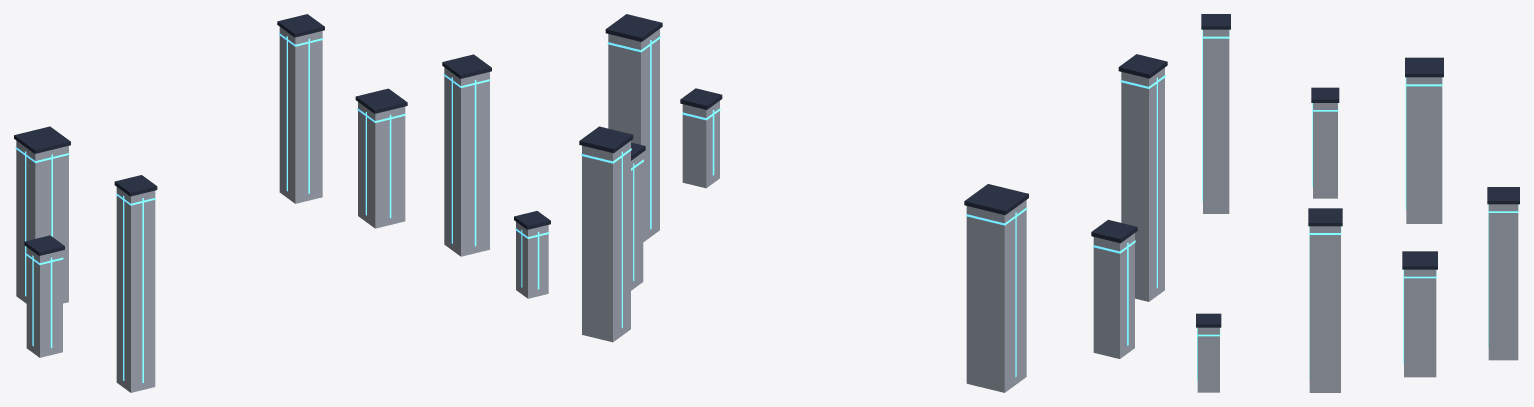
The picture shows the model from 3 angles, left to right: view 1: azimuth 30°, elevation 25°; view 2: azimuth 150°, elevation 25°; view 3: azimuth 270°, elevation 25°; orthographic projection. The views are drawn at different scales.
Visible parts, largest first — view 1: nexo_spires_arcade.lod1; view 2: nexo_spires_arcade.lod1; view 3: nexo_spires_arcade.lod1.
Part boxes in pixels (x1,y1,x2,y2): nexo_spires_arcade.lod1: (14, 14, 550, 392); nexo_spires_arcade.lod1: (579, 14, 1167, 392); nexo_spires_arcade.lod1: (1196, 14, 1519, 392).
Bounding box in the file's own units: 26.37 × 11.22 × 17.49.
